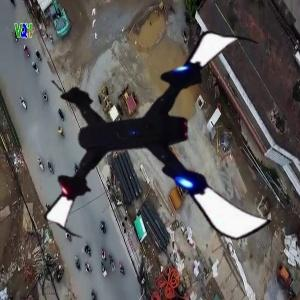drone: (45, 14, 281, 250)
